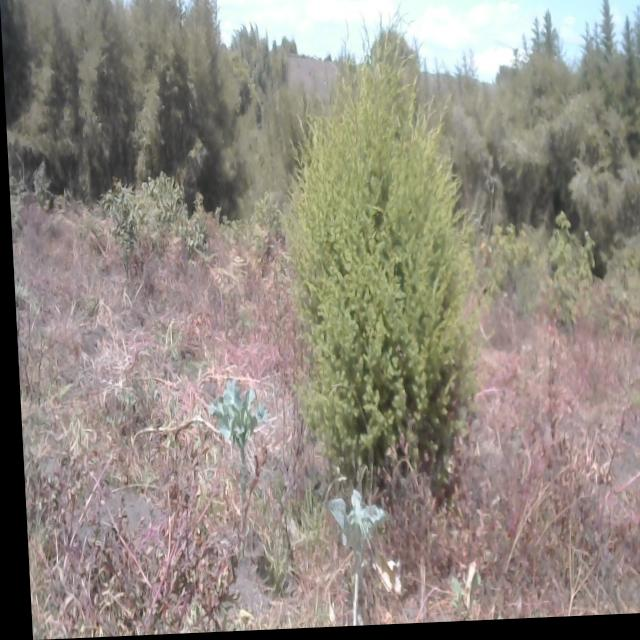cedrus: (265, 21, 490, 533)
